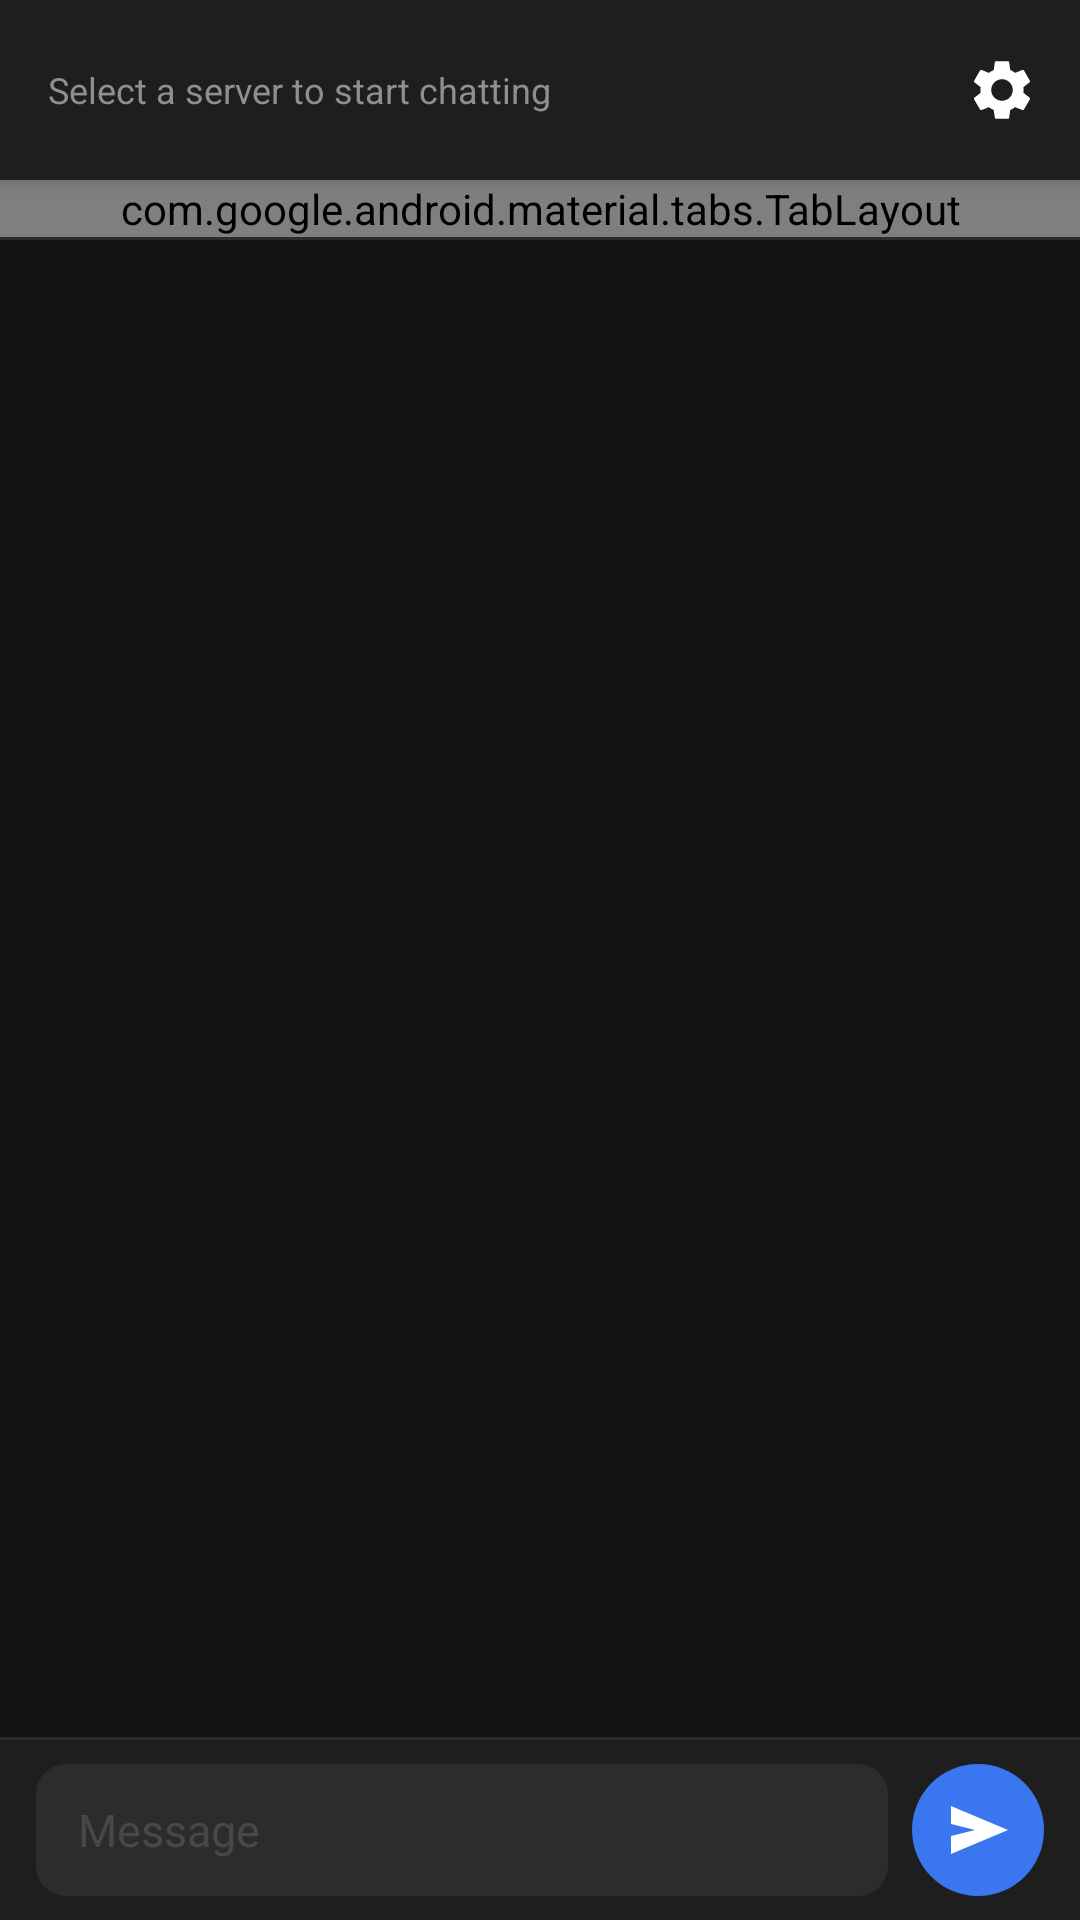

Icons on this 1080*1920 Android screen, each with its box as Rect(x1, y1, x2, y2):
Send: Rect(912, 1764, 1044, 1896)
Settings: Rect(974, 61, 1030, 119)
